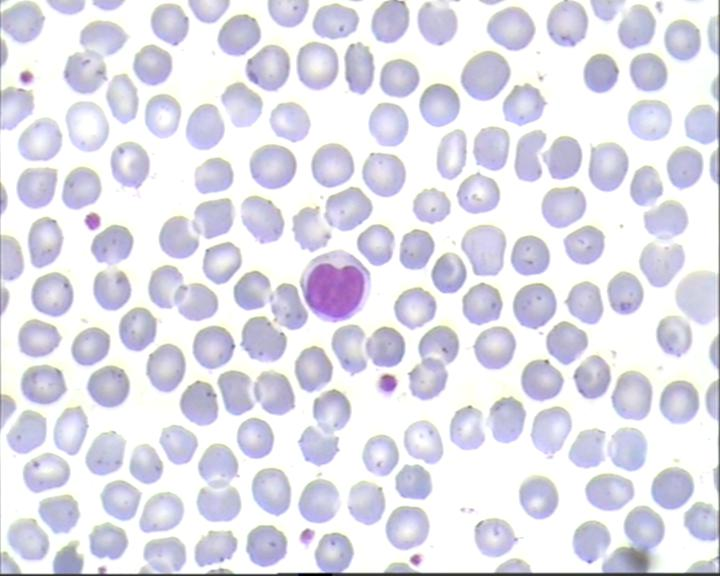lymp: (295, 248, 378, 328)
